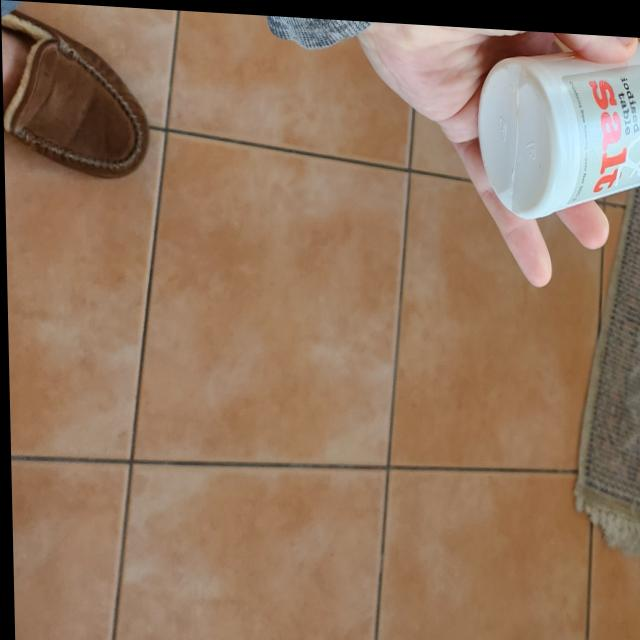salt: (476, 25, 640, 218)
